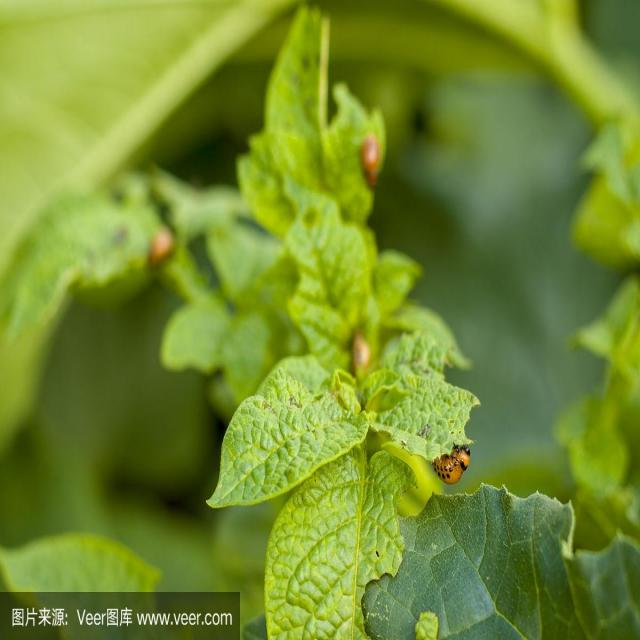ShuCaiHuaBanChong-Larva-: (435, 438, 473, 490)
